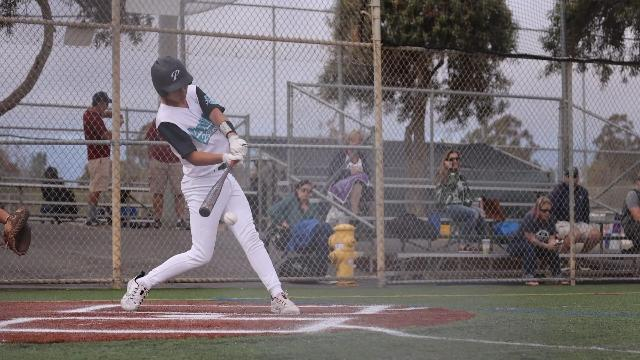ball: (222, 211, 238, 225)
bat: (200, 162, 237, 218)
